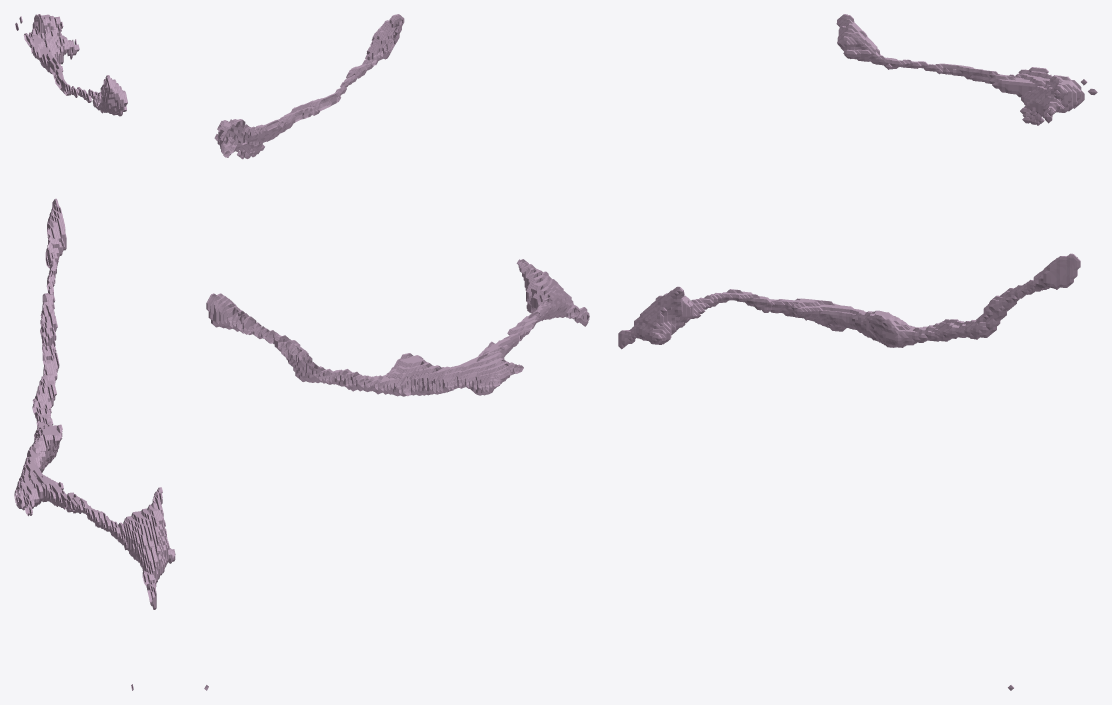
File: SVV_RIPR.gltf
3 renders of one model, left to right at view 1: azimuth 30°, elevation 25°; view 2: azimuth 150°, elevation 25°; view 3: azimuth 270°, elevation 25°, orthographic. The views are drawn at different scales.
Parts seen in each view (by area): view 1: RIPR; view 2: RIPR; view 3: RIPR.
Boxes of the visible parts, left/top/right/bottom form: RIPR: left=14, top=14, right=175, bottom=690; RIPR: left=204, top=14, right=589, bottom=690; RIPR: left=618, top=14, right=1097, bottom=690.
Bounding box in the file's own units: 44467 × 131918 × 91640.
